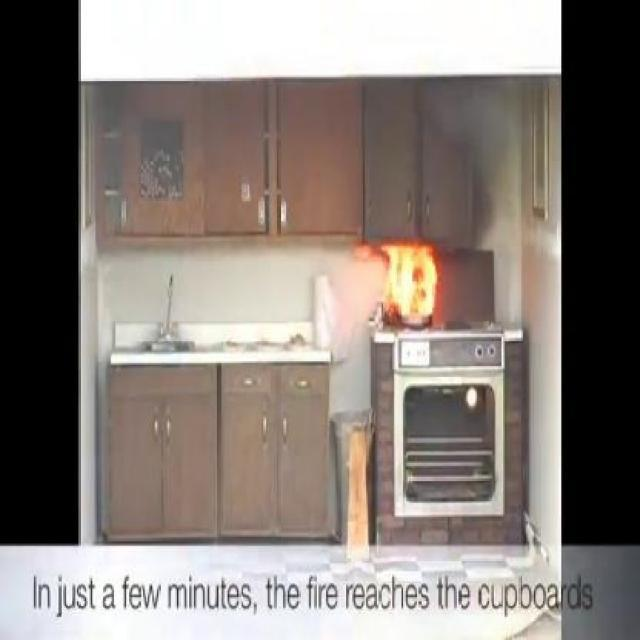fire: (430, 85, 504, 168), (371, 247, 440, 316)
